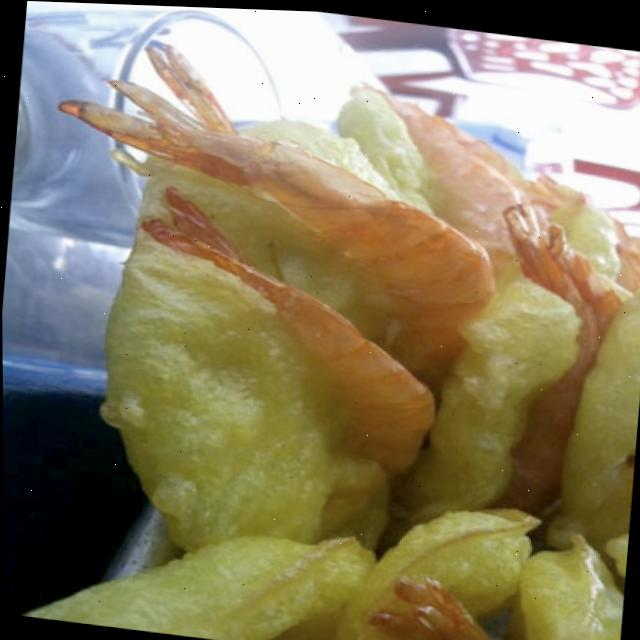炸货点心: (20, 24, 640, 640)
熟制海鲜: (20, 24, 640, 640)
